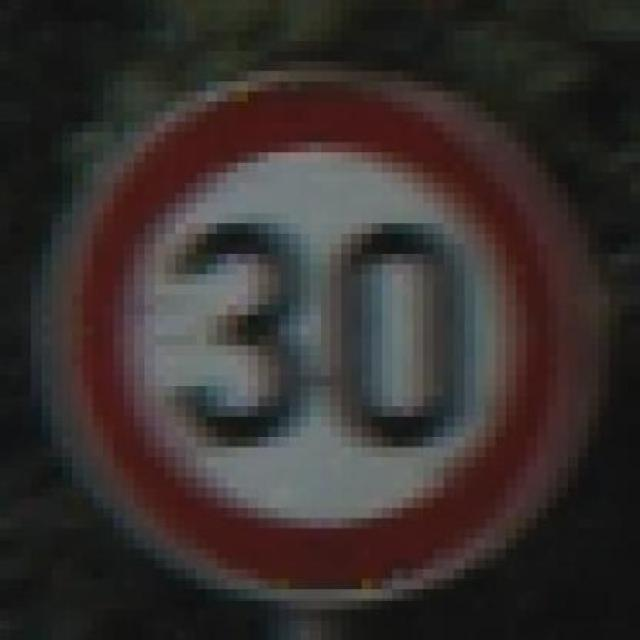Speed Limit 30 KMPh: (31, 30, 629, 610)
